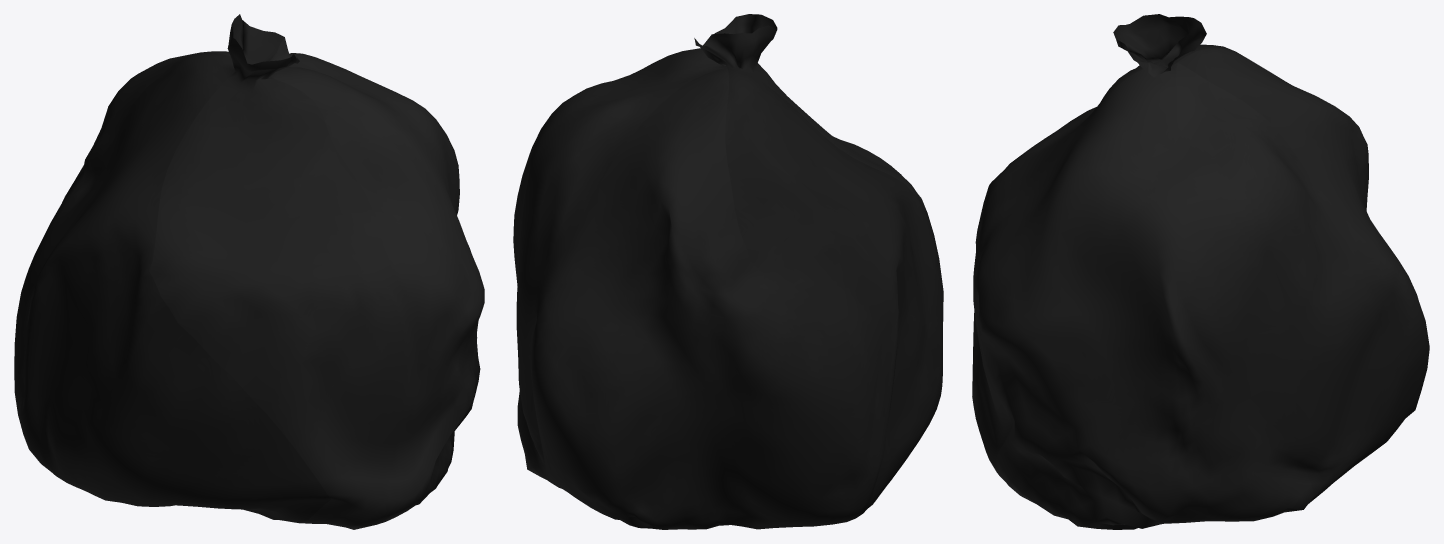
File: garbage_bag_test_c.fbx
3 renders of one model, left to right at view 1: azimuth 30°, elevation 25°; view 2: azimuth 150°, elevation 25°; view 3: azimuth 270°, elevation 25°, orthographic. The views are drawn at different scales.
Visible parts, largest first — view 1: garbage bag; view 2: garbage bag; view 3: garbage bag.
Part boxes in pixels (box(x1,y1,x2,y2)): garbage bag: box(14, 14, 484, 529); garbage bag: box(513, 14, 943, 529); garbage bag: box(972, 14, 1429, 529).
Size of the model in its own units: 164 by 174 by 165.
1 material, 1 textured.
